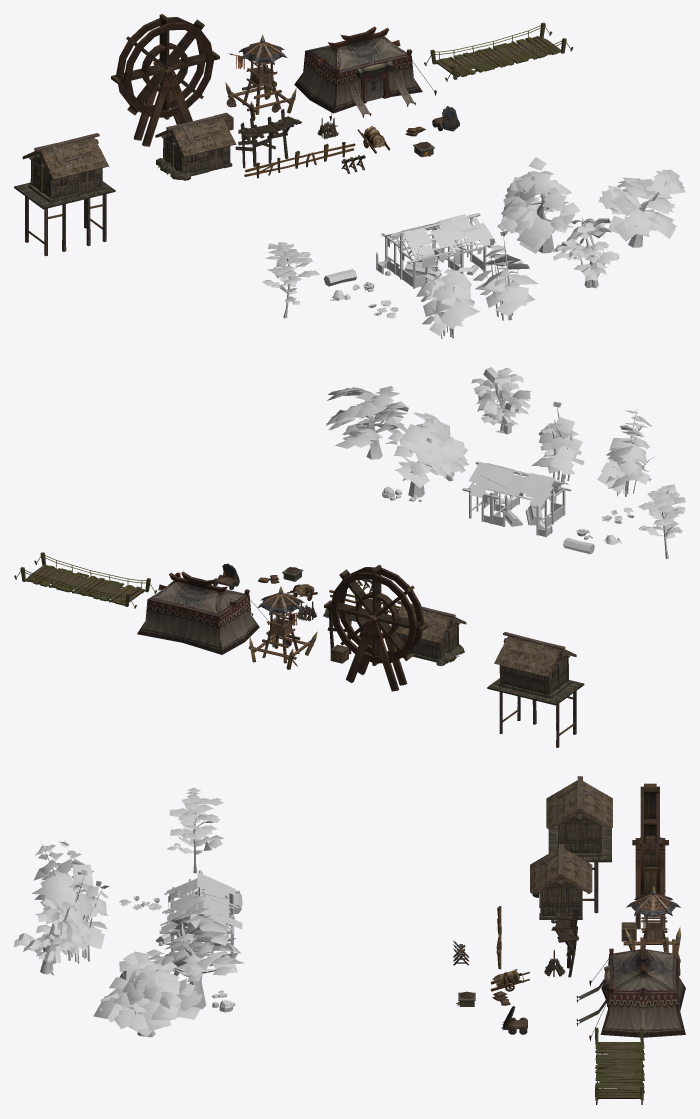
File: s7_3d_new_paobiao001.FBX
The picture shows the model from 3 angles, top to bottom: view 1: azimuth 30°, elevation 25°; view 2: azimuth 150°, elevation 25°; view 3: azimuth 270°, elevation 25°; orthographic projection. The views are drawn at different scales.
Visible parts, largest first — view 1: s7_3d_new_paobiao_shuiche001, s7_3d_new_paobiao_zhangpeng001, s7_3d_new_paobiao_minju002, s7_3d_new_paobiao_muwu001, s7_3d_new_paobiao_shu002, s7_3d_new_paobiao_shu001, s7_3d_new_paobiao_minju001, s7_3d_new_paobiao_muqiao001, s7_3d_new_paobiao_zhuzi002, s7_3d_new_paobiao_jianta001, s7_3d_new_paobiao_zhuzi001, s7_3d_new_paobiao_shu003 (+3 smaller); view 2: s7_3d_new_paobiao_shuiche001, s7_3d_new_paobiao_zhangpeng001, s7_3d_new_paobiao_minju002, s7_3d_new_paobiao_muwu001, s7_3d_new_paobiao_shu002, s7_3d_new_paobiao_shu001, s7_3d_new_paobiao_muqiao001, s7_3d_new_paobiao_shu003, s7_3d_new_paobiao_zhuzi002, s7_3d_new_paobiao_minju001, s7_3d_new_paobiao_jianta001, s7_3d_new_paobiao_zhuzi001 (+1 smaller); view 3: s7_3d_new_paobiao_zhangpeng001, s7_3d_new_paobiao_shu001, s7_3d_new_paobiao_minju002, s7_3d_new_paobiao_shu002, s7_3d_new_paobiao_minju001, s7_3d_new_paobiao_muwu001, s7_3d_new_paobiao_shuiche001, s7_3d_new_paobiao_muqiao001, s7_3d_new_paobiao_shu003, s7_3d_new_paobiao_zhuzi002, s7_3d_new_paobiao_shu004, s7_3d_new_paobiao_jianta001 (+3 smaller).
Part boxes in pixels (bbox=[...]): s7_3d_new_paobiao_shuiche001: bbox=[111, 14, 219, 146]; s7_3d_new_paobiao_zhangpeng001: bbox=[294, 26, 436, 121]; s7_3d_new_paobiao_minju002: bbox=[14, 133, 115, 256]; s7_3d_new_paobiao_muwu001: bbox=[376, 213, 496, 288]; s7_3d_new_paobiao_shu002: bbox=[497, 157, 580, 253]; s7_3d_new_paobiao_shu001: bbox=[598, 169, 685, 247]; s7_3d_new_paobiao_minju001: bbox=[155, 113, 236, 180]; s7_3d_new_paobiao_muqiao001: bbox=[424, 22, 573, 81]; s7_3d_new_paobiao_zhuzi002: bbox=[416, 267, 479, 338]; s7_3d_new_paobiao_jianta001: bbox=[225, 34, 296, 120]; s7_3d_new_paobiao_zhuzi001: bbox=[473, 230, 538, 320]; s7_3d_new_paobiao_shu003: bbox=[553, 217, 619, 288]; s7_3d_new_paobiao_shuiche001: bbox=[324, 565, 428, 691]; s7_3d_new_paobiao_zhangpeng001: bbox=[137, 571, 268, 654]; s7_3d_new_paobiao_minju002: bbox=[487, 632, 584, 747]; s7_3d_new_paobiao_muwu001: bbox=[462, 461, 571, 537]; s7_3d_new_paobiao_shu002: bbox=[385, 412, 469, 497]; s7_3d_new_paobiao_shu001: bbox=[326, 386, 408, 459]; s7_3d_new_paobiao_muqiao001: bbox=[14, 552, 156, 608]; s7_3d_new_paobiao_shu003: bbox=[471, 367, 530, 434]; s7_3d_new_paobiao_zhuzi002: bbox=[597, 407, 653, 496]; s7_3d_new_paobiao_minju001: bbox=[391, 600, 466, 666]; s7_3d_new_paobiao_jianta001: bbox=[248, 586, 317, 669]; s7_3d_new_paobiao_zhuzi001: bbox=[531, 402, 584, 484]; s7_3d_new_paobiao_zhangpeng001: bbox=[576, 939, 685, 1041]; s7_3d_new_paobiao_shu001: bbox=[93, 951, 203, 1037]; s7_3d_new_paobiao_minju002: bbox=[546, 776, 612, 913]; s7_3d_new_paobiao_shu002: bbox=[146, 908, 244, 1009]; s7_3d_new_paobiao_minju001: bbox=[530, 844, 592, 919]; s7_3d_new_paobiao_muwu001: bbox=[155, 870, 242, 962]; s7_3d_new_paobiao_shuiche001: bbox=[632, 783, 668, 929]; s7_3d_new_paobiao_muqiao001: bbox=[595, 1027, 644, 1104]; s7_3d_new_paobiao_shu003: bbox=[14, 898, 91, 975]; s7_3d_new_paobiao_zhuzi002: bbox=[32, 841, 97, 916]; s7_3d_new_paobiao_shu004: bbox=[167, 787, 224, 873]; s7_3d_new_paobiao_jianta001: bbox=[623, 886, 681, 975].
Size of the model in its own units: 43.69 by 12.61 by 42.83.
